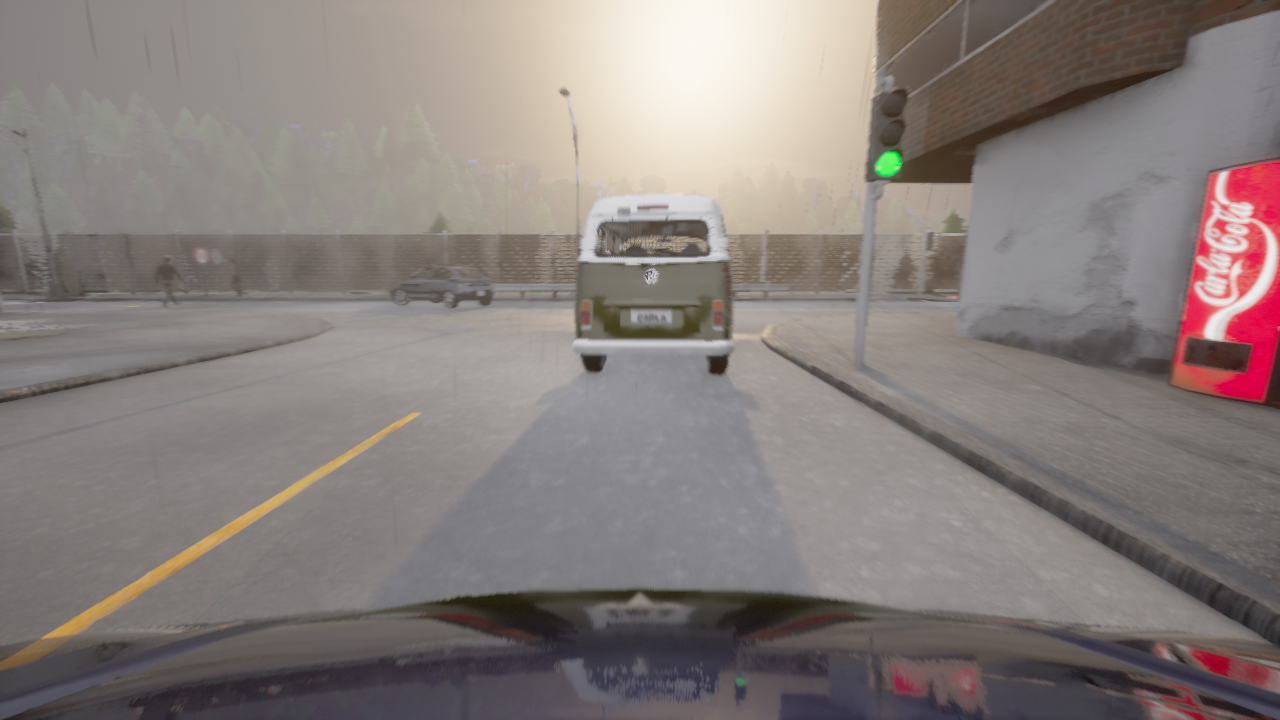cyclist: (0, 588, 1279, 719), (572, 194, 734, 374), (390, 266, 493, 308)
pedestrian: (155, 256, 183, 307), (229, 259, 242, 296)
